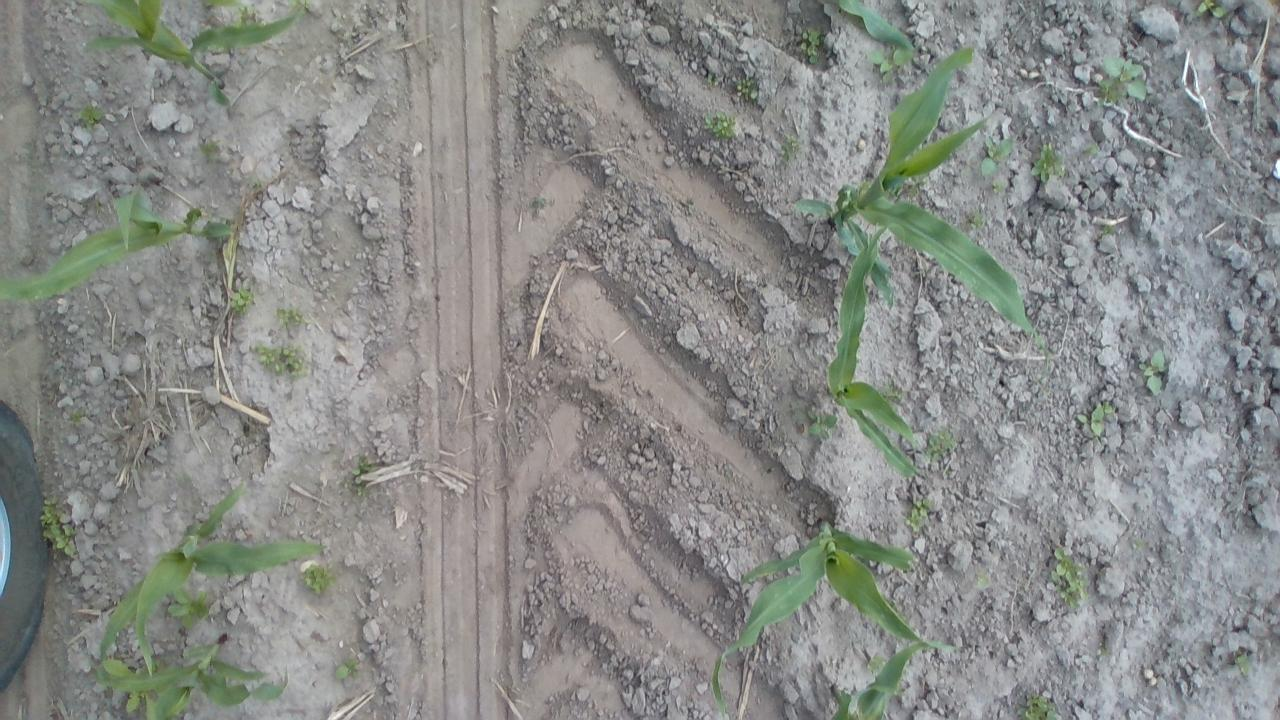Maize: (792, 42, 1050, 371), (708, 514, 974, 720), (92, 480, 326, 677), (0, 182, 240, 304), (824, 225, 928, 479), (80, 0, 309, 106), (94, 633, 288, 720), (824, 639, 930, 720), (831, 0, 913, 51)
Weeds: (1048, 544, 1093, 613), (1094, 54, 1147, 112), (37, 493, 79, 564), (104, 660, 154, 719), (252, 338, 312, 382), (165, 586, 211, 631), (1030, 139, 1068, 191), (866, 44, 910, 86), (1136, 347, 1170, 398), (1075, 398, 1115, 440), (1010, 688, 1061, 720), (981, 133, 1016, 176), (297, 561, 336, 598), (924, 420, 958, 462), (346, 454, 378, 496), (792, 24, 822, 68), (804, 408, 840, 442), (776, 131, 808, 168), (700, 108, 736, 140), (728, 72, 759, 106), (904, 494, 933, 530), (195, 136, 223, 170), (332, 652, 362, 682), (229, 286, 254, 318), (274, 303, 306, 326), (80, 102, 104, 130), (1194, 0, 1224, 21), (1233, 647, 1254, 676), (67, 403, 89, 428), (236, 6, 262, 26), (964, 212, 988, 232), (886, 378, 905, 402), (530, 194, 548, 212), (868, 652, 884, 671), (992, 178, 1008, 197), (1098, 223, 1115, 238), (1097, 642, 1112, 658), (972, 574, 988, 588), (288, 0, 310, 10), (248, 180, 262, 191), (1086, 145, 1098, 156), (704, 72, 714, 85), (1131, 540, 1142, 550)
